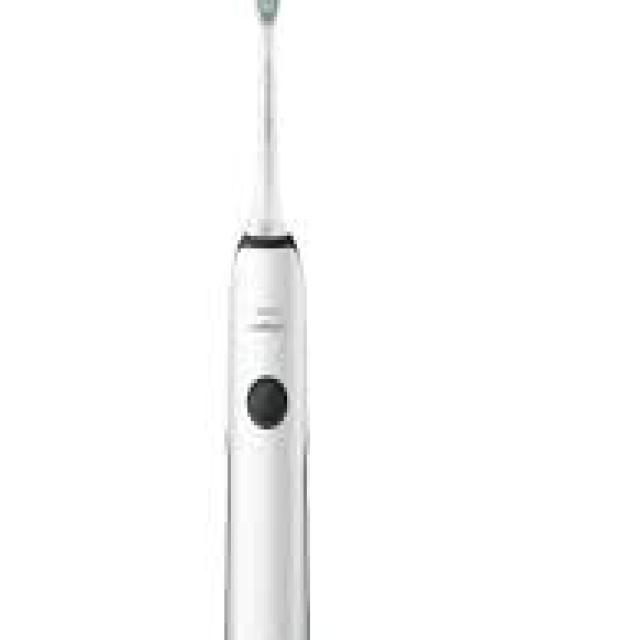organic: (201, 5, 325, 617)
